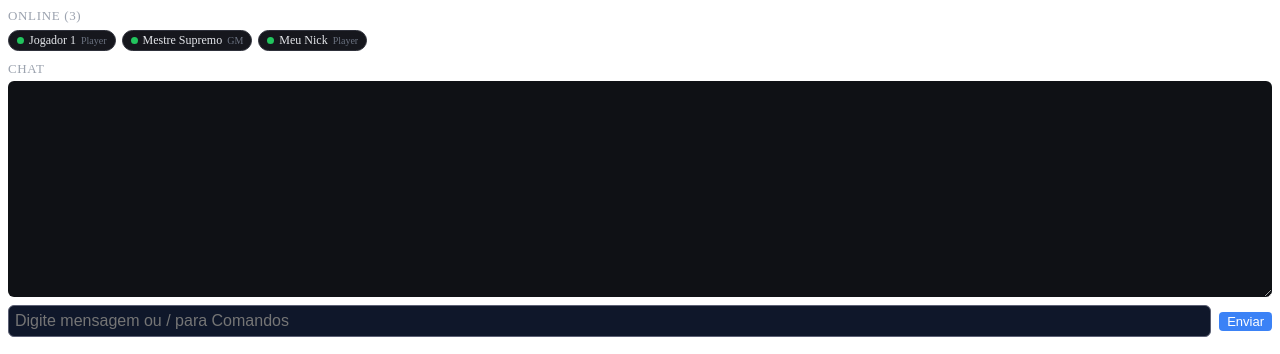
Test: ChatPanel autocomplete › preenche o comando ao pressionar Tab ou clicar na sugestão
Type "/w" into the field with placeholder "Digite mensagem ou / para Comandos" at (610, 321), box [8,305,1211,337]
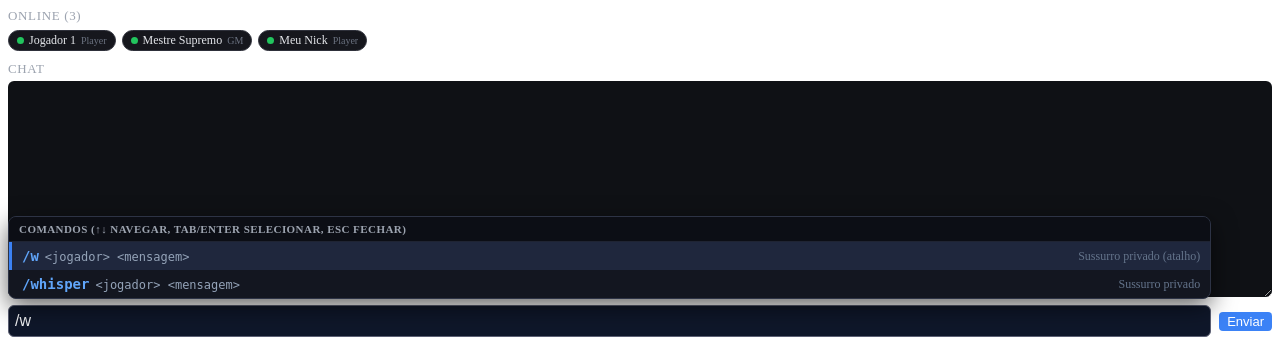
// Seleciona /w pressionando Tab (exato match vem em primeiro)
Press Tab in the field with placeholder "Digite mensagem ou / para Comandos", box [8,305,1211,337]
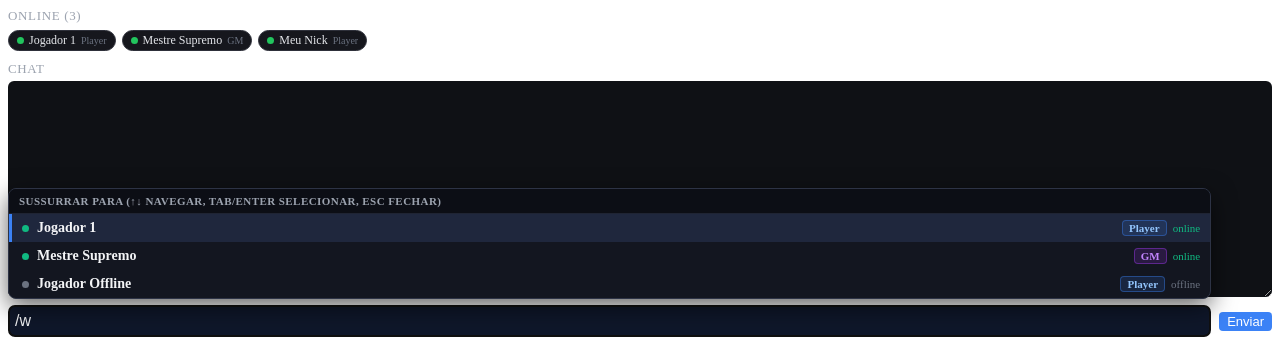
// Agora está no modo whisper, clica em "Jogador 1" no listbox
Press the mouse on the text "Jogador 1" at (67, 228), box [37,220,96,236]
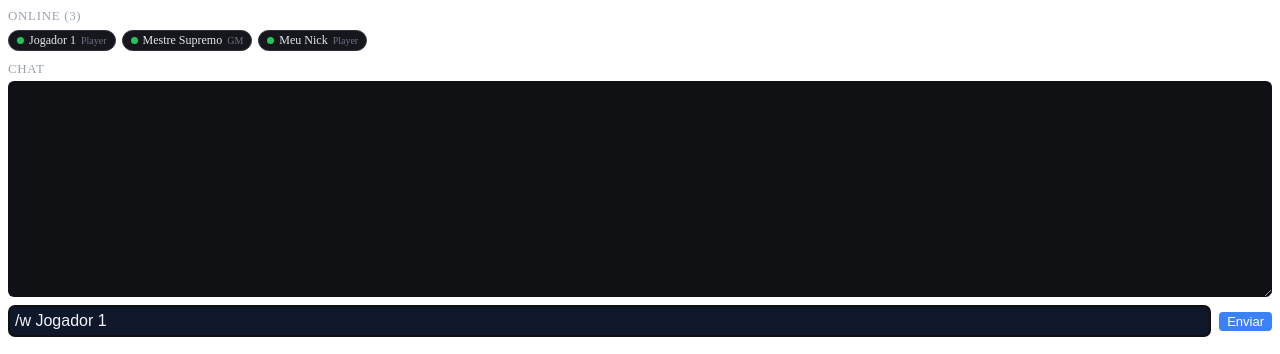
Now the field with placeholder "Digite mensagem ou / para Comandos" holds "/w Jogador 1 ", box [8,305,1211,337]
Now the list is gone
